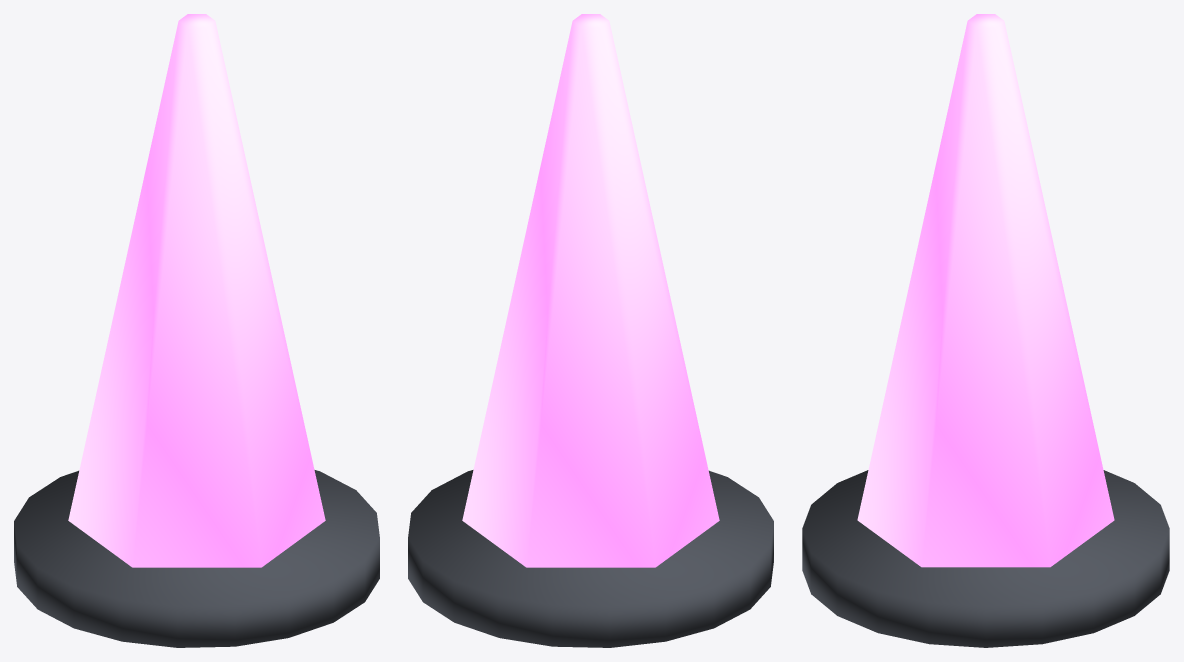
File: table_lamp_crystal.glb
3 renders of one model, left to right at view 1: azimuth 30°, elevation 25°; view 2: azimuth 150°, elevation 25°; view 3: azimuth 270°, elevation 25°, orthographic.
Visible parts, largest first — view 1: GD_table_lamp_crystal__m1, GD_table_lamp_crystal__m0; view 2: GD_table_lamp_crystal__m1, GD_table_lamp_crystal__m0; view 3: GD_table_lamp_crystal__m1, GD_table_lamp_crystal__m0.
Boxes of the visible parts, box(x1,y1,x2,y2) form: GD_table_lamp_crystal__m1: box(68, 14, 325, 567); GD_table_lamp_crystal__m0: box(14, 470, 379, 647); GD_table_lamp_crystal__m1: box(462, 14, 719, 567); GD_table_lamp_crystal__m0: box(408, 470, 773, 647); GD_table_lamp_crystal__m1: box(857, 14, 1114, 567); GD_table_lamp_crystal__m0: box(802, 470, 1169, 647).
Bounding box in the file's own units: 0.2 × 0.33 × 0.2.
